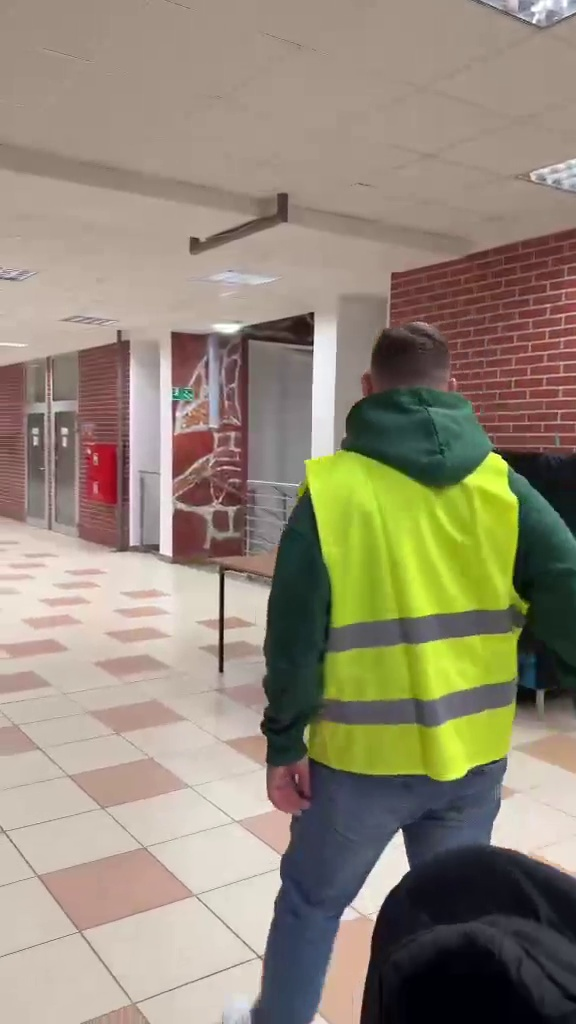vest: (261, 308, 574, 1019)
